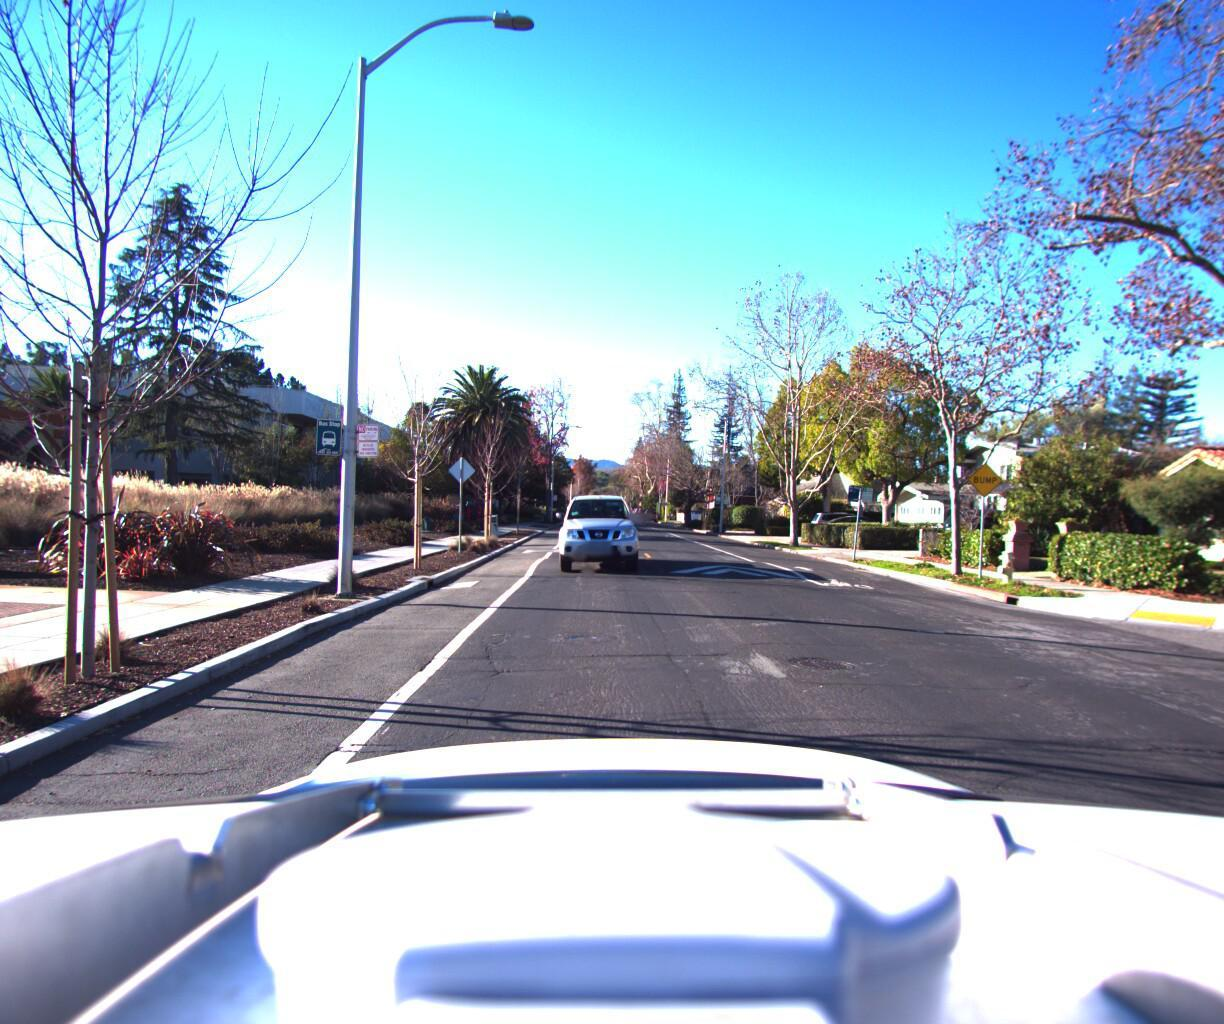car: (550, 493, 641, 583), (803, 516, 881, 548)
